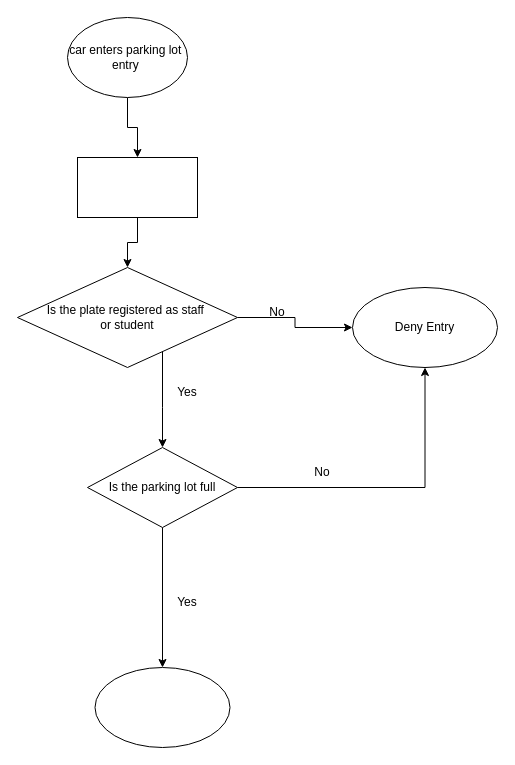
Image size: 515x765. Some labels were removed from this diagram. Each missing label, with the centre of its shape:
"Allow Entry/open gate (car is recorded as entering)" goes at point (162, 707).
"Car licence plate is read" goes at point (137, 187).
